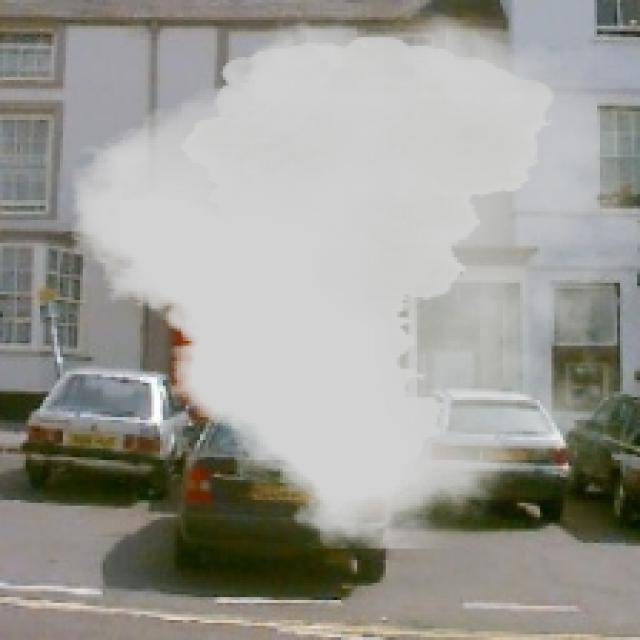smoke: (72, 11, 637, 552)
